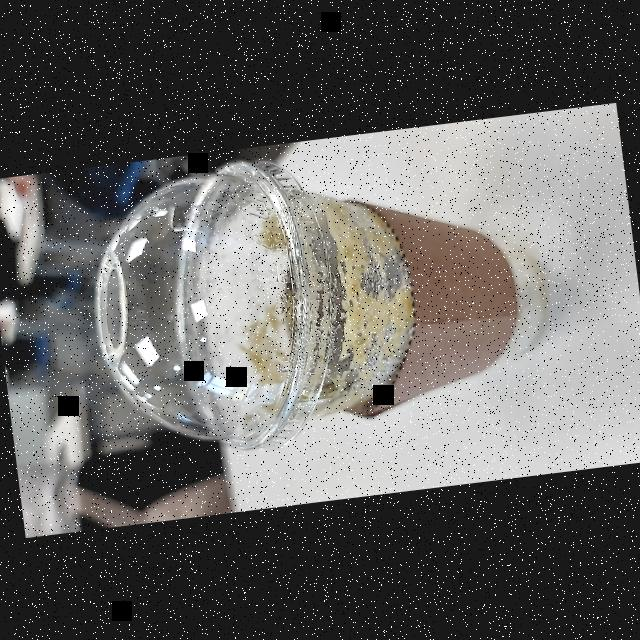plastic_cup: (76, 123, 562, 471)
plastic_cup_lid: (77, 154, 352, 472)
